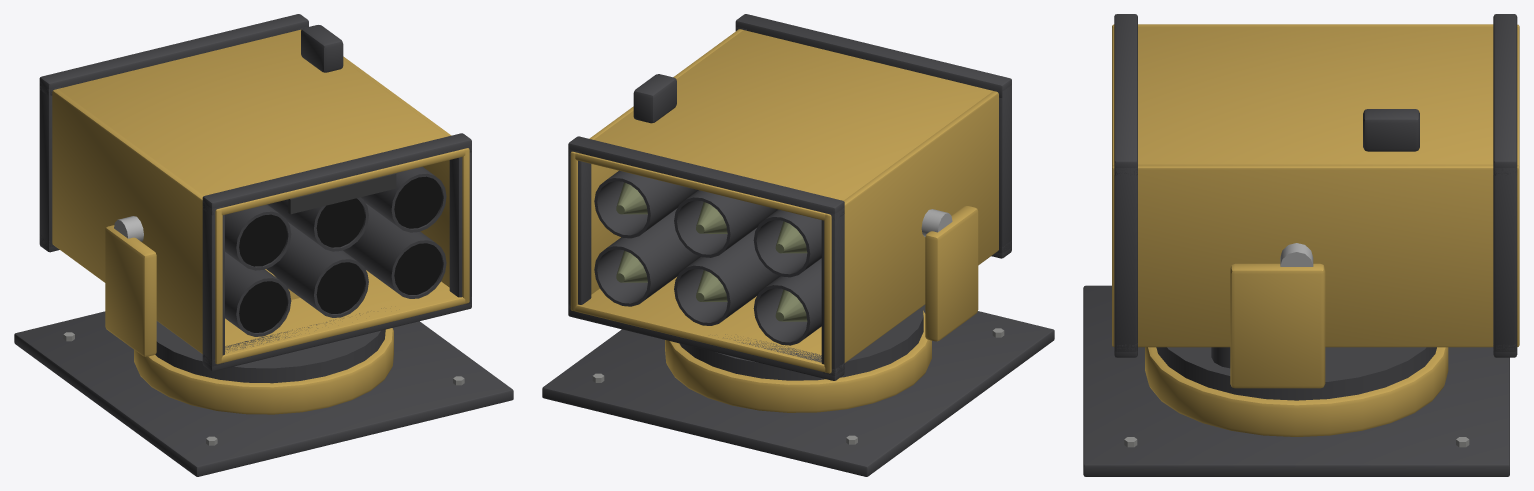
The model's file is rockets.glb.
3 renders of one model, left to right at view 1: azimuth 30°, elevation 25°; view 2: azimuth 150°, elevation 25°; view 3: azimuth 270°, elevation 25°, orthographic. The views are drawn at different scales.
Parts seen in each view (by area): view 1: Gun, Part, Turret; view 2: Gun, Part, Turret, Rocket0, Rocket4, Rocket1, Rocket5, Rocket2, Rocket3; view 3: Gun, Part, Turret.
Part boxes in pixels (left/top/right/bottom): Gun: left=39, top=14, right=471, bottom=371; Part: left=14, top=311, right=513, bottom=476; Turret: left=105, top=216, right=385, bottom=383; Gun: left=568, top=14, right=1011, bottom=380; Part: left=542, top=304, right=1054, bottom=476; Turret: left=679, top=206, right=978, bottom=380; Rocket0: left=775, top=221, right=807, bottom=253; Rocket4: left=616, top=182, right=647, bottom=214; Rocket1: left=775, top=289, right=807, bottom=321; Rocket5: left=616, top=250, right=647, bottom=282; Rocket2: left=696, top=202, right=727, bottom=233; Rocket3: left=696, top=270, right=727, bottom=301; Gun: left=1112, top=14, right=1519, bottom=357; Part: left=1083, top=285, right=1509, bottom=476; Turret: left=1156, top=243, right=1436, bottom=400.
Size of the model in its own units: 0.9 by 0.77 by 0.92.
